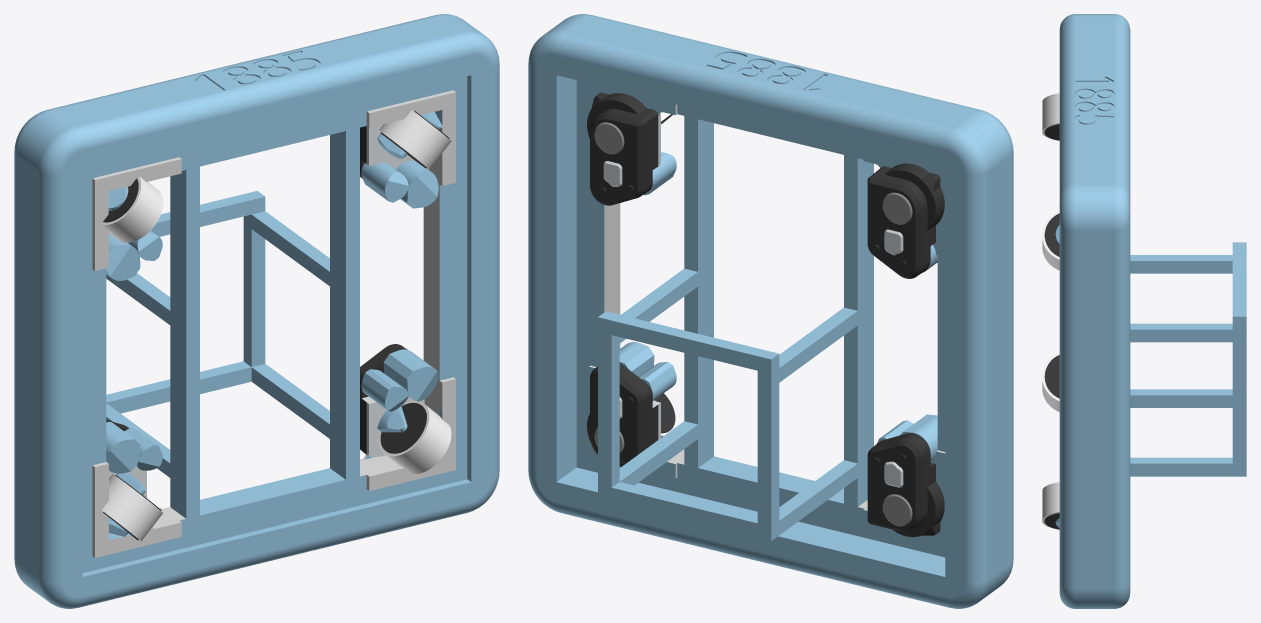
3 renders of one model, left to right at view 1: azimuth 30°, elevation 25°; view 2: azimuth 150°, elevation 25°; view 3: azimuth 270°, elevation 25°, orthographic. The views are drawn at different scales.
Parts seen in each view (by area): view 1: Supa; view 2: Supa; view 3: Supa.
Part boxes in pixels (<box>): Supa: <box>14,14,499,608</box>; Supa: <box>528,14,1013,608</box>; Supa: <box>1042,14,1246,608</box>.
Bounding box in the file's own units: 0.8382 × 0.8382 × 0.3686.
